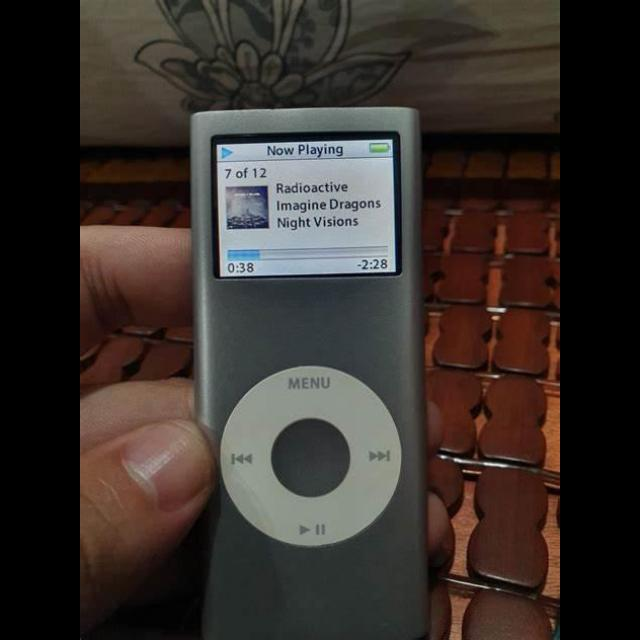Music-Player: (172, 86, 444, 640)
